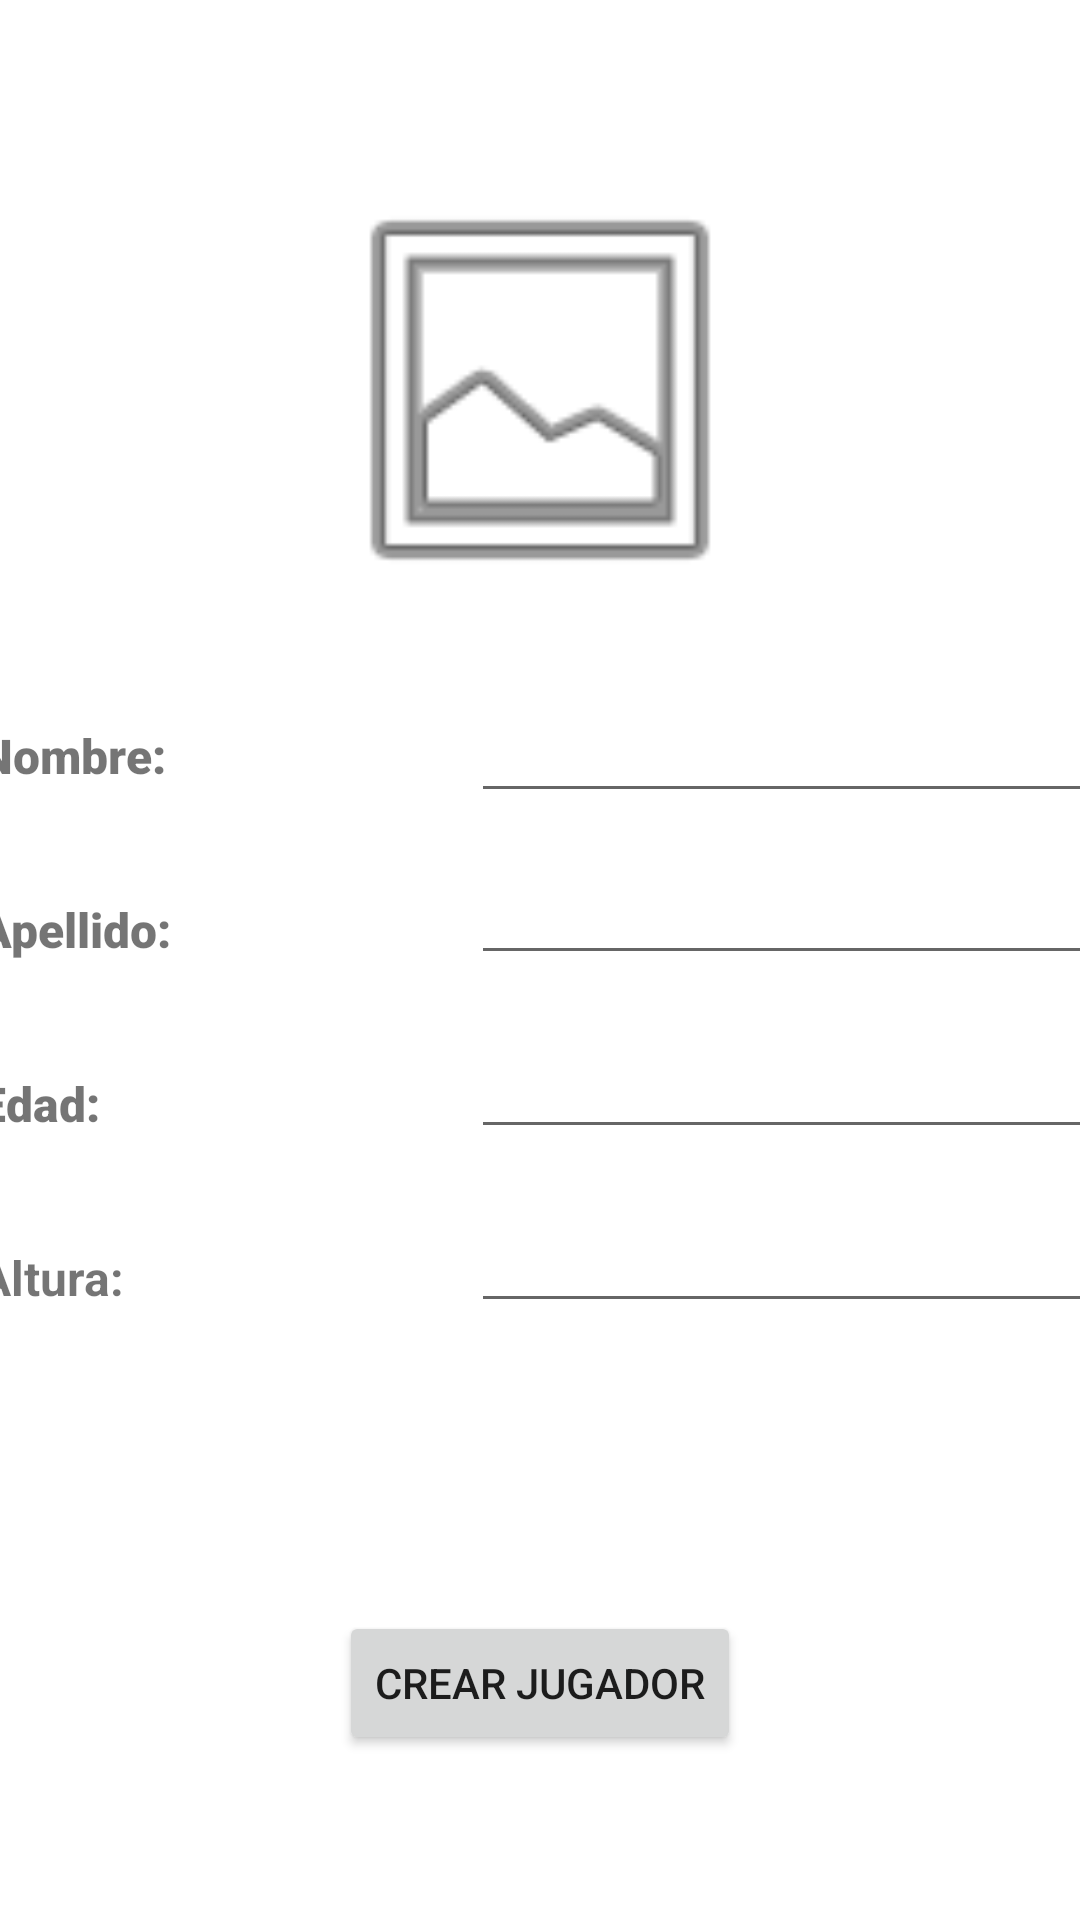

Where icons sit on this 1080w x 1920h app screen, as (x1=x1, y1=y1, x2=x2, y2=y2):
gallery: (x1=370, y1=220, x2=710, y2=560)
